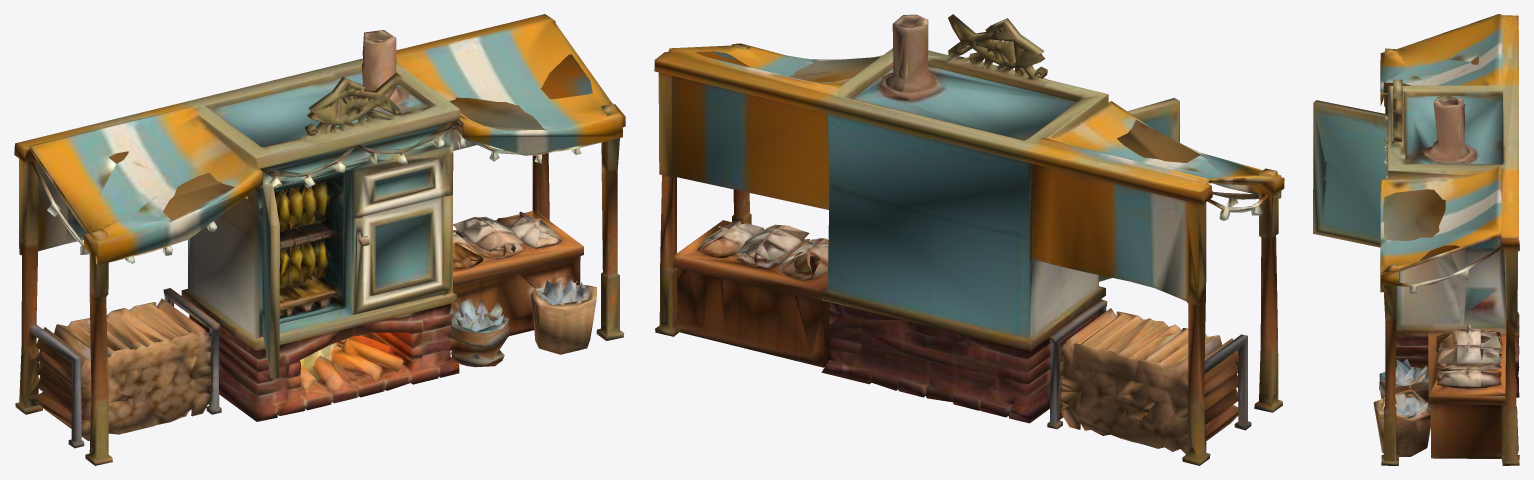
The model's file is xunyu-3.glb.
The picture shows the model from 3 angles, left to right: view 1: azimuth 30°, elevation 25°; view 2: azimuth 150°, elevation 25°; view 3: azimuth 270°, elevation 25°; orthographic projection. The views are drawn at different scales.
Visible parts, largest first — view 1: node_0; view 2: node_0; view 3: node_0.
Boxes of the visible parts, left/top/right/bottom form: node_0: left=14, top=14, right=625, bottom=465; node_0: left=654, top=14, right=1284, bottom=465; node_0: left=1313, top=14, right=1519, bottom=465.
Size of the model in its own units: 0.989 by 0.5789 by 0.3865.
1 material, 1 textured.
